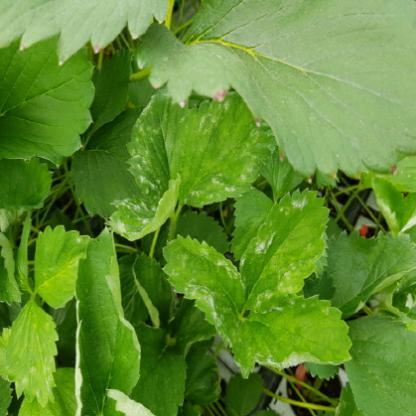Strawberry_Powdery_Mildew_Leaf: (156, 84, 276, 208), (74, 224, 142, 415), (237, 187, 330, 314), (230, 294, 353, 378), (160, 232, 244, 348), (0, 299, 59, 409), (104, 173, 180, 242), (124, 88, 170, 198)
